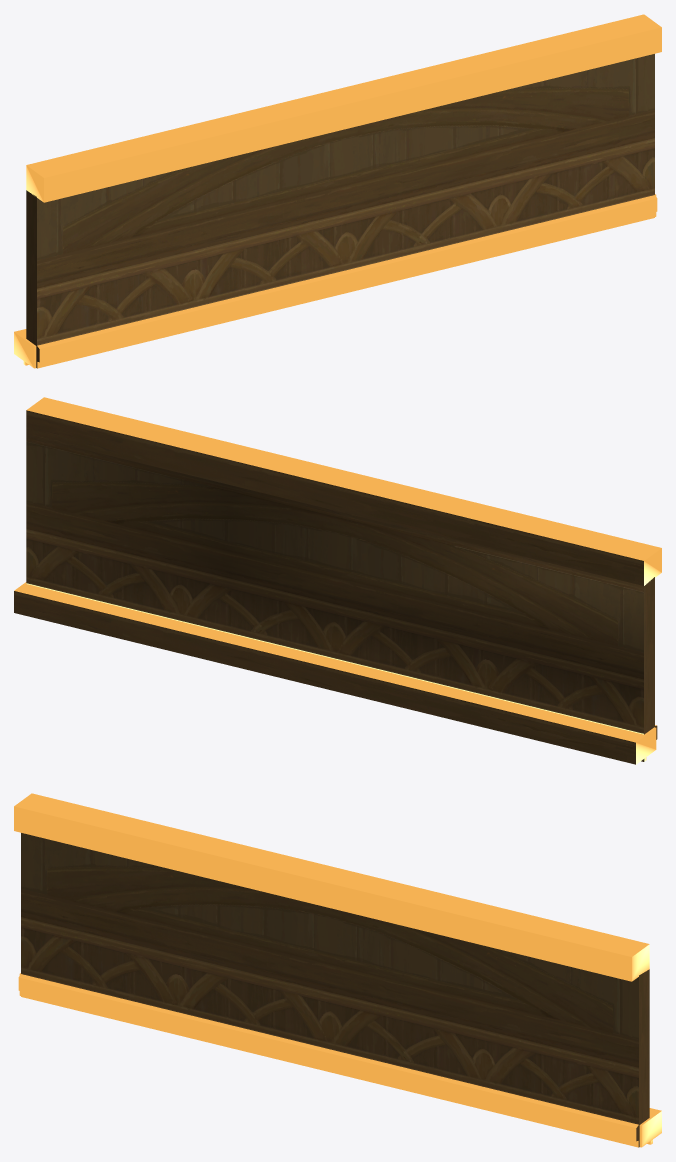
The model's file is Homeworld_Interior_Xm_Room_Door_02_Vo.fbx.
The picture shows the model from 3 angles, top to bottom: view 1: azimuth 30°, elevation 25°; view 2: azimuth 150°, elevation 25°; view 3: azimuth 330°, elevation 25°; orthographic projection.
Visible parts, largest first — view 1: Homeworld_Interior_Xm_Room_Door_02_Vo; view 2: Homeworld_Interior_Xm_Room_Door_02_Vo; view 3: Homeworld_Interior_Xm_Room_Door_02_Vo.
Boxes of the visible parts, bbox=[...] form: Homeworld_Interior_Xm_Room_Door_02_Vo: bbox=[14, 14, 661, 368]; Homeworld_Interior_Xm_Room_Door_02_Vo: bbox=[14, 397, 661, 764]; Homeworld_Interior_Xm_Room_Door_02_Vo: bbox=[14, 793, 661, 1147].
Bounding box in the file's own units: 5.03 × 1.54 × 0.3923.
